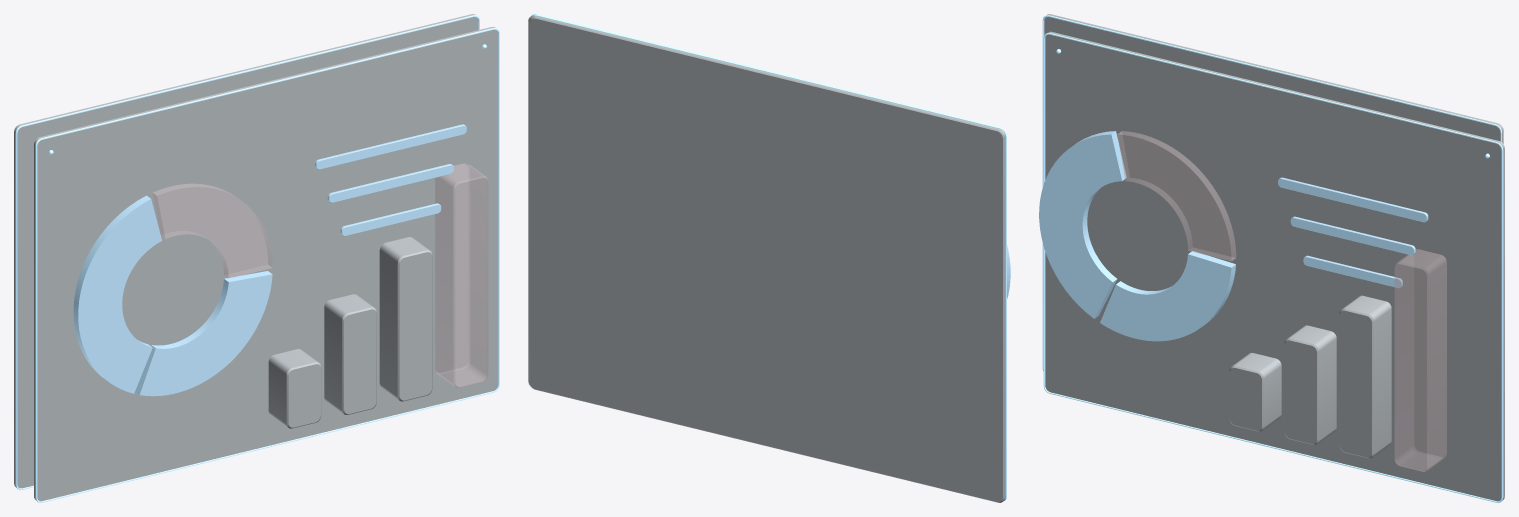
File: 09-dashboard.glb
The picture shows the model from 3 angles, left to right: view 1: azimuth 30°, elevation 25°; view 2: azimuth 150°, elevation 25°; view 3: azimuth 330°, elevation 25°; orthographic projection. The views are drawn at different scales.
Visible parts, largest first — view 1: BC thin clear technical glass, BC etched pale glass, BC subtle ruby technical glass, BC cool glass edge; view 2: BC thin clear technical glass, BC cool glass edge; view 3: BC thin clear technical glass, BC etched pale glass, BC subtle ruby technical glass, BC cool glass edge.
Boxes of the visible parts, box(x1,y1,x2,y2) form: BC thin clear technical glass: box(14, 14, 498, 501); BC etched pale glass: box(73, 124, 466, 396); BC subtle ruby technical glass: box(152, 162, 488, 387); BC cool glass edge: box(15, 15, 499, 502); BC thin clear technical glass: box(528, 15, 1005, 502); BC cool glass edge: box(531, 14, 1006, 500); BC thin clear technical glass: box(1044, 14, 1504, 501); BC etched pale glass: box(1039, 131, 1428, 341); BC subtle ruby technical glass: box(1117, 131, 1446, 471); BC cool glass edge: box(1042, 15, 1503, 502).
Size of the model in its own units: 2.05 by 1.54 by 0.3316.
